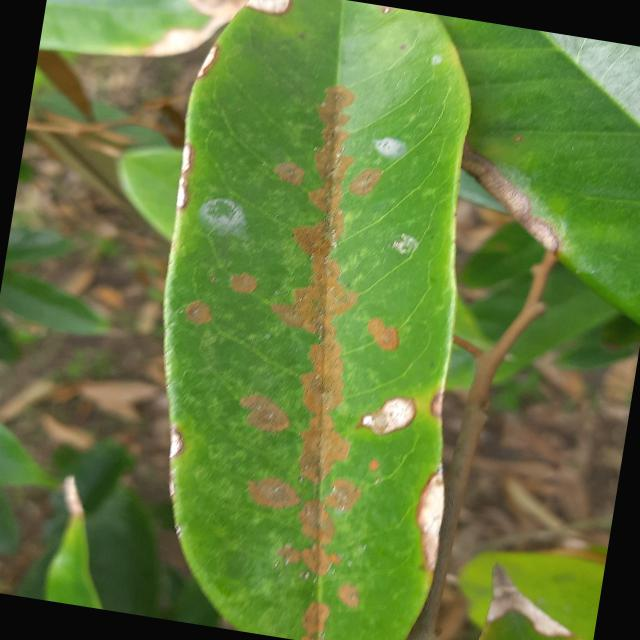Algal Leaf Spot: (93, 0, 537, 639)
